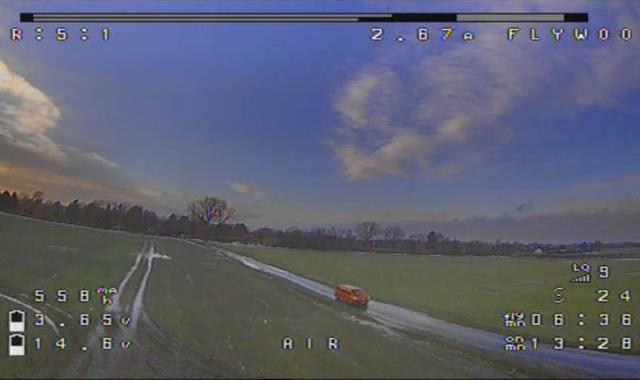car: (329, 277, 379, 315)
